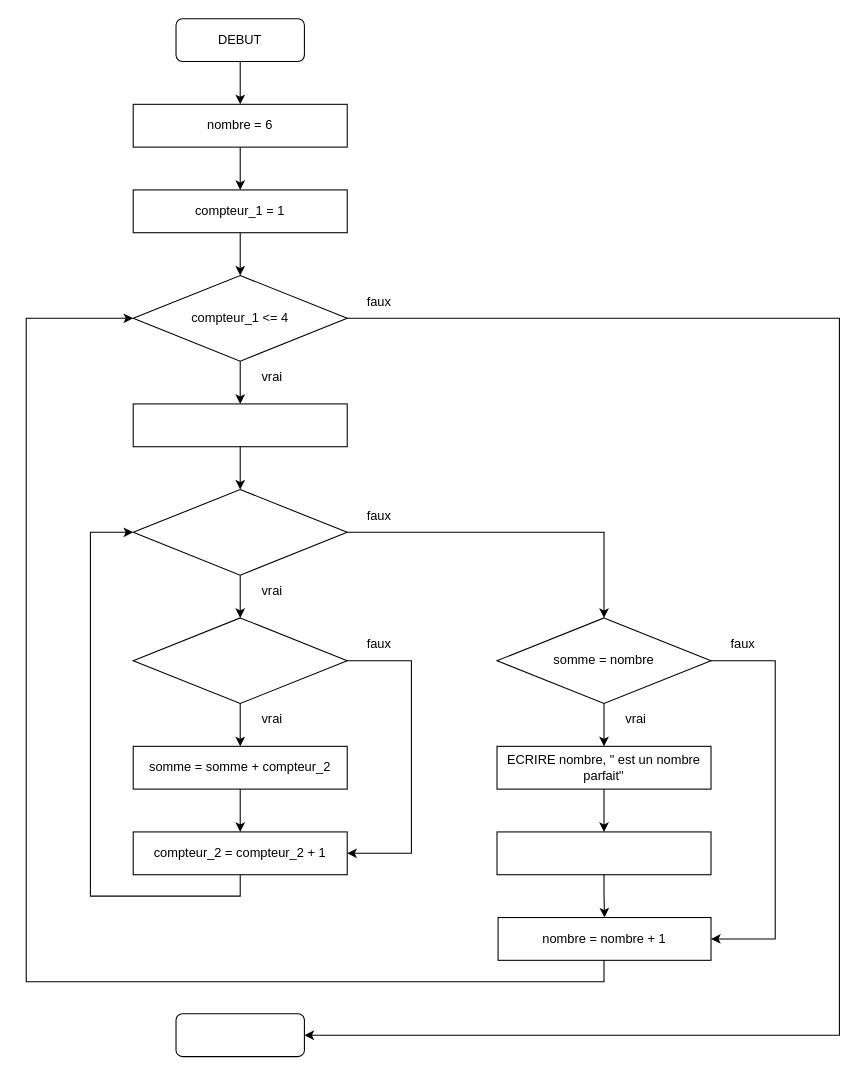
The diagram is 867 pixels wide and 1075 high, and some of its shapes have lost their labels. The shapes that lost their labels are listed below. From the top down, each one's box as (x1, y1, x2, y2) in pixels, then its label:
(132, 403, 347, 447): compteur_2 = 1
(132, 488, 347, 575): compteur_2 < nombre
(132, 617, 347, 704): nombre % compteur_2 = 0
(496, 831, 711, 875): compteur_1 = compteur_1 + 1
(175, 1013, 304, 1057): FIN
